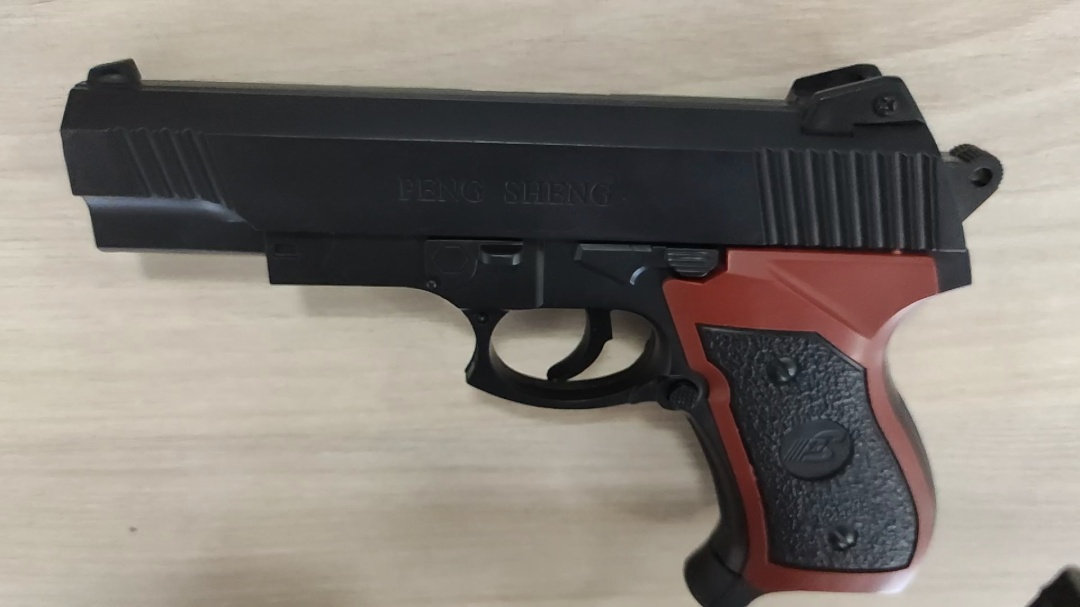gun: (59, 55, 1004, 607)
